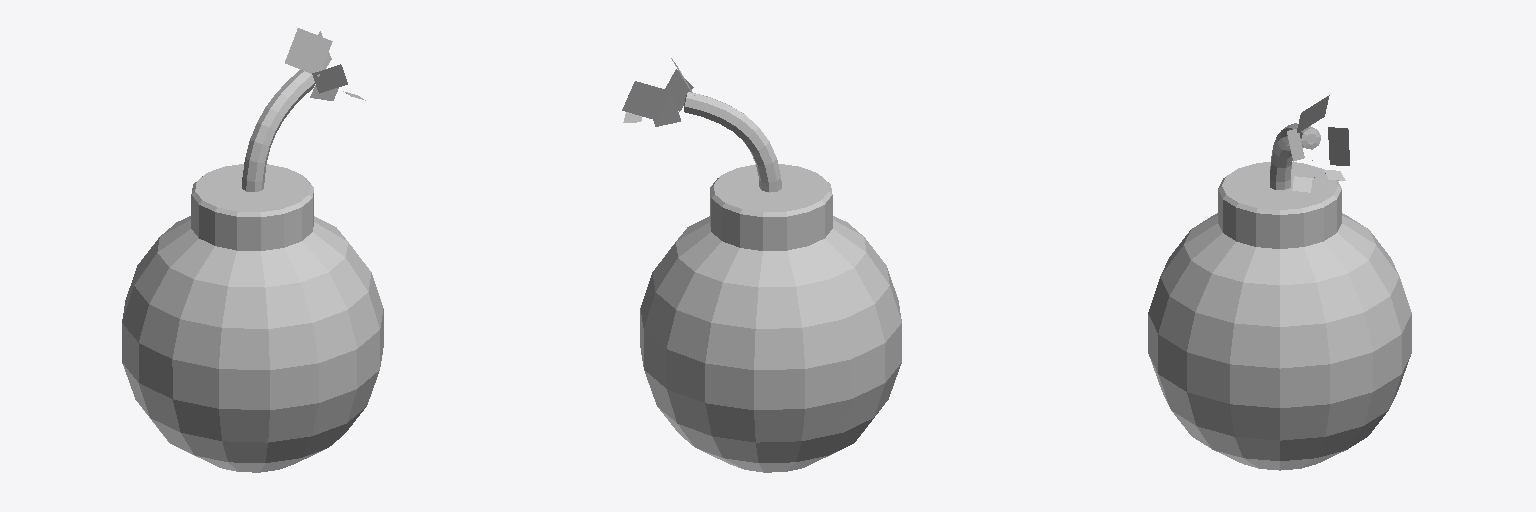
The model's file is bomb_000030.obj.
3 views of the same model, side by side, from view 1: azimuth 30°, elevation 25°; view 2: azimuth 150°, elevation 25°; view 3: azimuth 270°, elevation 25° (orthographic).
Visible parts, largest first — view 1: Sphere, NurbsPath, Plane_5.001_Mesh.001; view 2: Sphere, NurbsPath, Plane_5.001_Mesh.001; view 3: Sphere, Plane_5.001_Mesh.001, NurbsPath.
Boxes of the visible parts, box(x1,y1,x2,y2) form: Sphere: box(122, 164, 383, 472); NurbsPath: box(242, 70, 315, 191); Plane_5.001_Mesh.001: box(285, 28, 365, 100); Sphere: box(640, 164, 901, 472); NurbsPath: box(684, 92, 781, 192); Plane_5.001_Mesh.001: box(622, 58, 694, 126); Sphere: box(1148, 162, 1411, 470); Plane_5.001_Mesh.001: box(1287, 95, 1349, 192); NurbsPath: box(1270, 123, 1320, 189).
Size of the model in its own units: 0.7925 by 1.25 by 0.771.